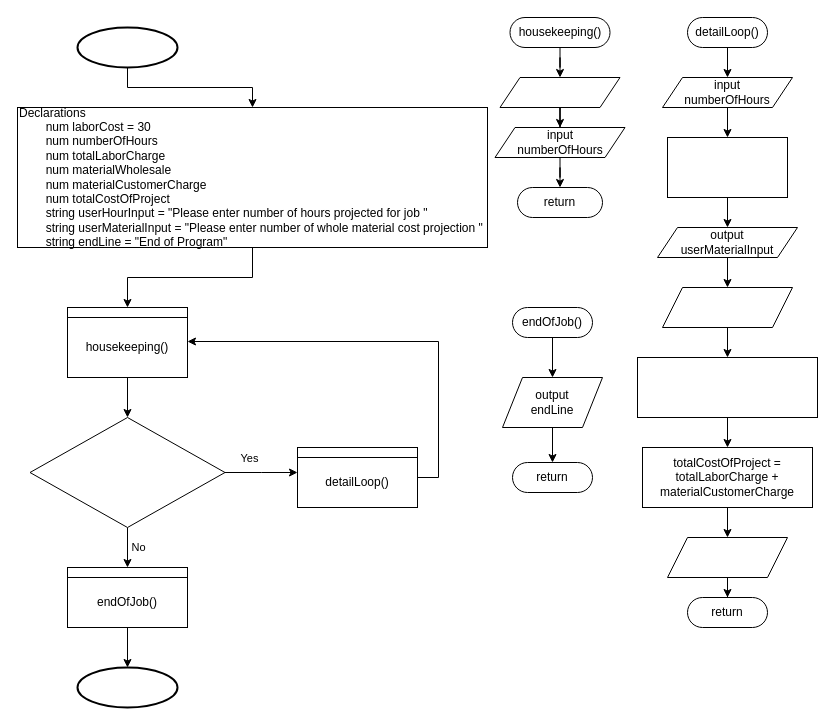
The diagram is 835 pixels wide and 726 high, and some of its shapes have lost their labels. Here are the shapes that lost their labels. From the top down, the centre of each, then its label:
[127,47]: Start
[559,92]: output userHourInput
[727,167]: totalLaborCharge = numberOfHours * laborCost
[727,307]: input materialWholesale
[727,387]: materialCustomerCharge = materialWholesale * 1.2
[127,472]: numberOfHours not equal to 0?
[727,557]: output totalCostOfProject
[127,687]: Stop
